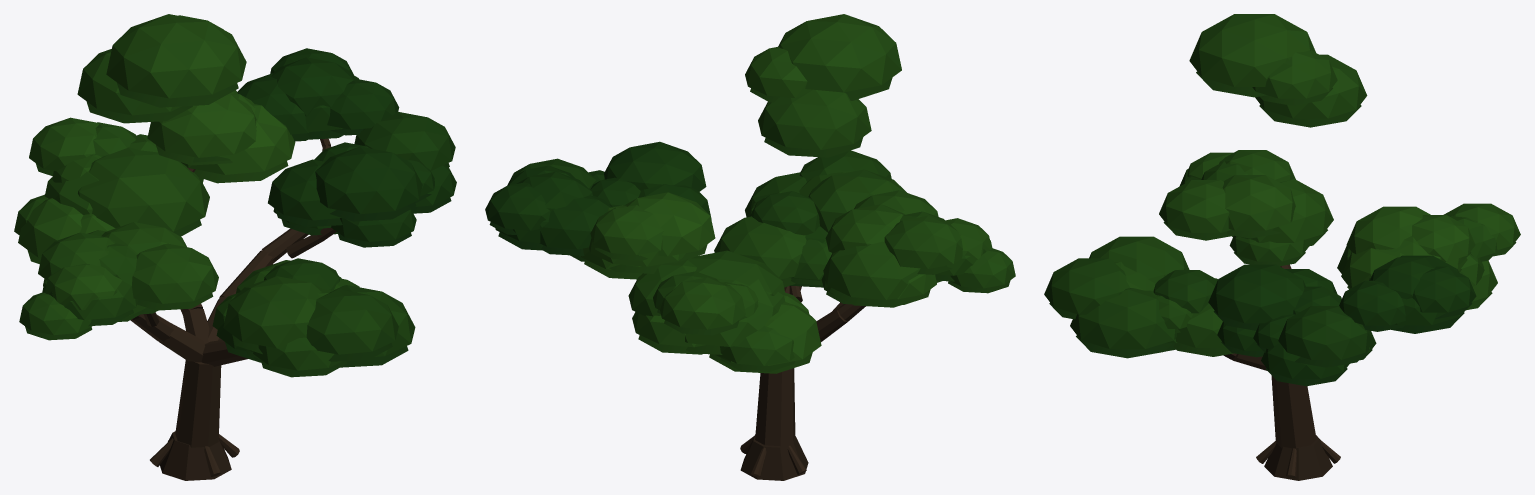
The model's file is tree_oak_1.glb.
3 renders of one model, left to right at view 1: azimuth 30°, elevation 25°; view 2: azimuth 150°, elevation 25°; view 3: azimuth 270°, elevation 25°, orthographic. The views are drawn at different scales.
Parts seen in each view (by area): view 1: leaf, wood; view 2: leaf, wood; view 3: leaf, wood.
Boxes of the visible parts, x1,y1,x2,y2 form: leaf: (14,14,456,377); wood: (130,138,336,480); leaf: (485,14,1015,373); wood: (740,285,865,480); leaf: (1044,14,1520,386); wood: (1223,264,1340,480).
Size of the model in its own units: 11.68 by 10.97 by 11.08.
